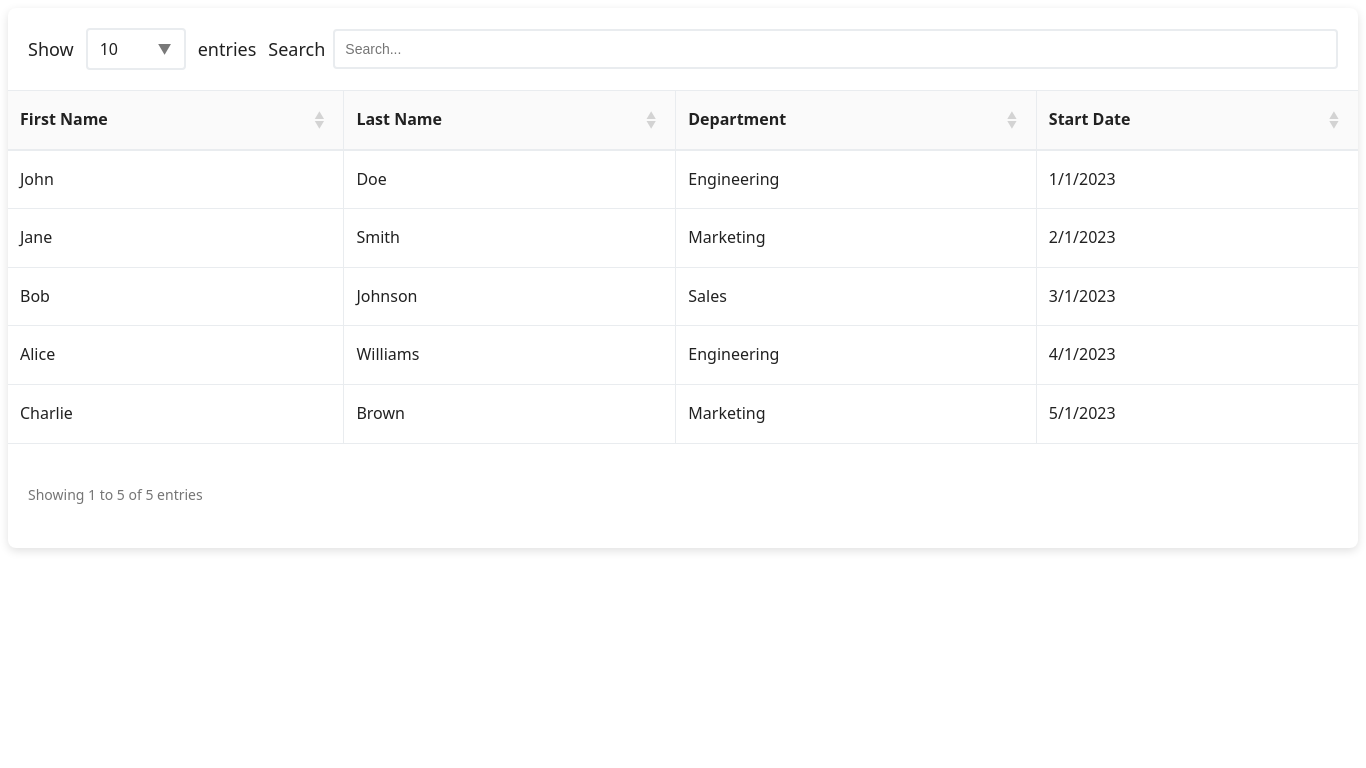
Scenario: DataTable Component › filters data when search term is entered
In the field with placeholder "Search...": (836, 49) 333,29 -> 1338,69, type "Engineering"
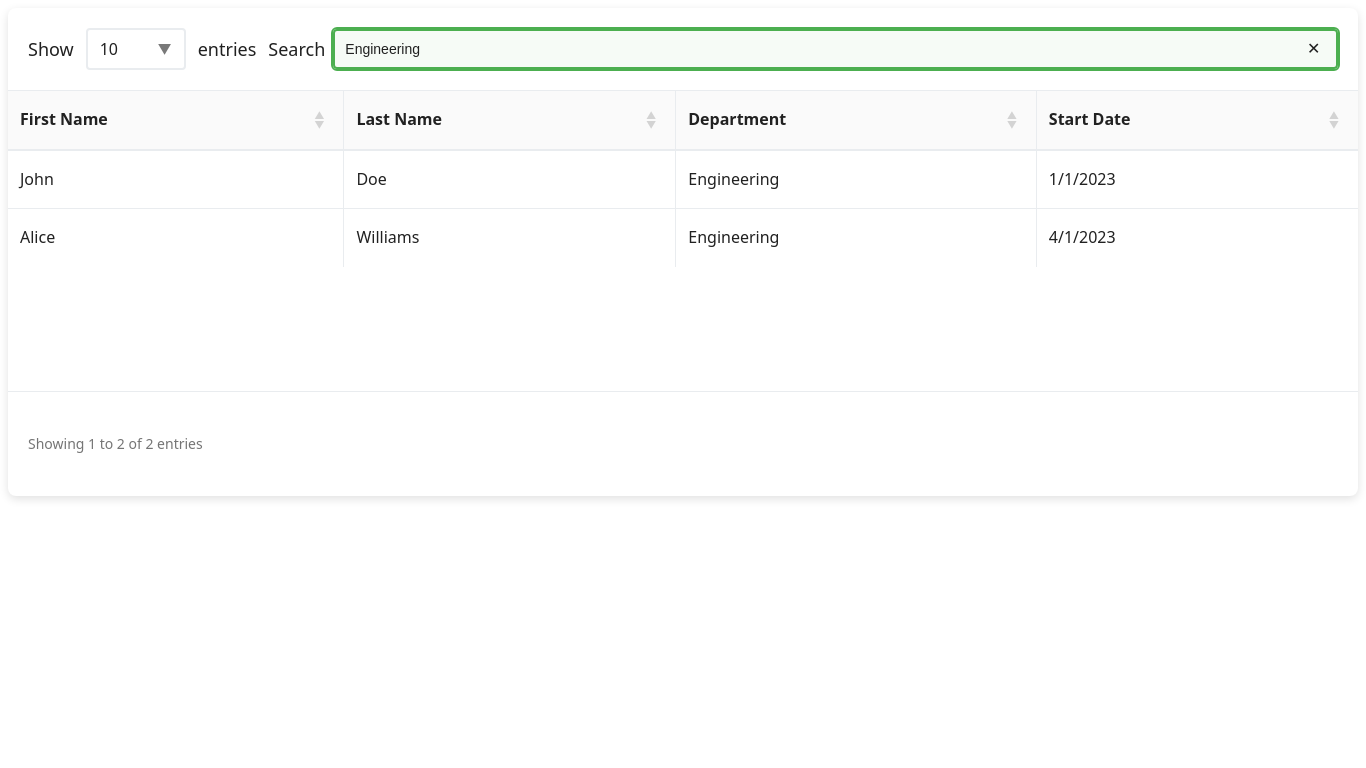
Check: the text "John" is shown, box 8,150 -> 344,209
Check: the text "Jane" is gone
